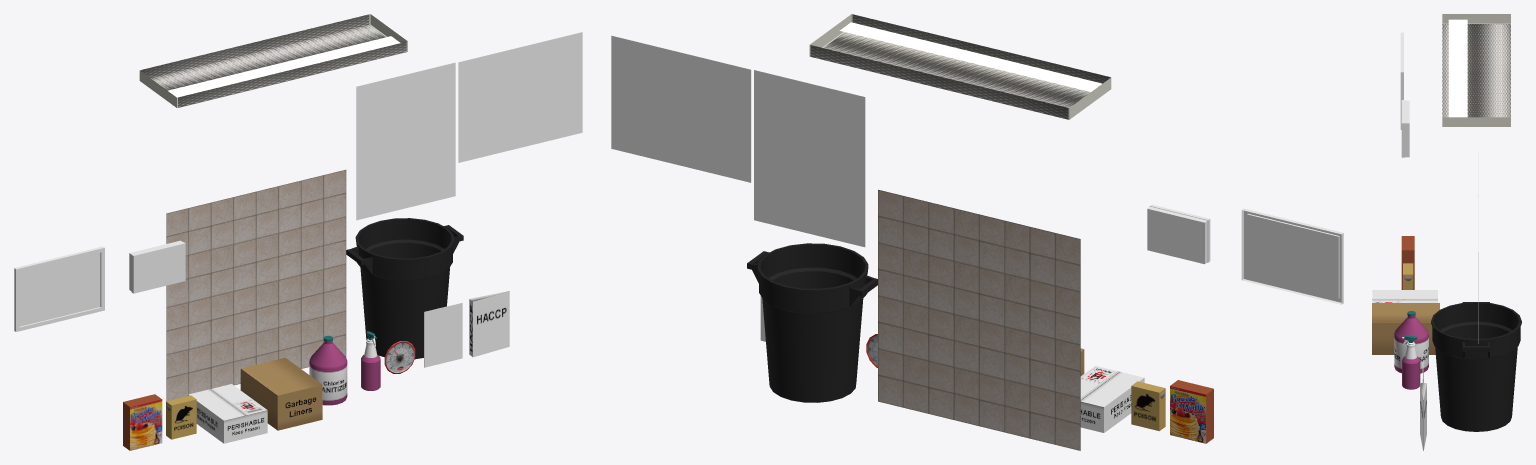
The model's file is boxes_posters.gltf.
3 views of the same model, side by side, from view 1: azimuth 30°, elevation 25°; view 2: azimuth 150°, elevation 25°; view 3: azimuth 270°, elevation 25° (orthographic). The views are drawn at different scales.
Visible parts, largest first — view 1: Wall_tiled, Posters_ab, Posters_cd, Ceiling_light_faulty, Garbage_can, Video_screen, Box_b, Box_c, Firstaid, HACCP_binder, Clipboard, Box_d (+5 smaller); view 2: Wall_tiled, Posters_ab, Posters_cd, Garbage_can, Ceiling_light_faulty, Video_screen, Box_c, Firstaid, Box_d, Video_monitor, Box_a; view 3: Garbage_can, Ceiling_light_faulty, Box_b, Sanitizer, Box_c, Spray_bottle, Firstaid, Box_d, HACCP_binder, Video_monitor, Box_a.
Part boxes in pixels (left/top/right/bottom): Wall_tiled: left=166, top=169, right=346, bottom=401; Posters_ab: left=356, top=62, right=455, bottom=220; Posters_cd: left=458, top=32, right=582, bottom=162; Ceiling_light_faulty: left=139, top=14, right=407, bottom=107; Garbage_can: left=346, top=218, right=463, bottom=359; Video_screen: left=19, top=252, right=100, bottom=326; Box_b: left=240, top=357, right=322, bottom=430; Box_c: left=188, top=384, right=267, bottom=443; Firstaid: left=129, top=240, right=185, bottom=293; HACCP_binder: left=469, top=291, right=509, bottom=357; Clipboard: left=424, top=302, right=462, bottom=367; Box_d: left=123, top=394, right=162, bottom=450; Wall_tiled: left=878, top=189, right=1080, bottom=450; Posters_ab: left=754, top=70, right=865, bottom=247; Posters_cd: left=611, top=35, right=751, bottom=182; Garbage_can: left=747, top=243, right=877, bottom=402; Ceiling_light_faulty: left=809, top=14, right=1111, bottom=119; Video_screen: left=1247, top=214, right=1338, bottom=298; Box_c: left=1080, top=366, right=1144, bottom=432; Firstaid: left=1147, top=204, right=1210, bottom=264; Box_d: left=1170, top=380, right=1213, bottom=443; Video_monitor: left=1241, top=208, right=1343, bottom=304; Box_a: left=1131, top=381, right=1165, bottom=431; Garbage_can: left=1431, top=302, right=1521, bottom=431; Ceiling_light_faulty: left=1442, top=14, right=1510, bottom=126; Box_b: left=1372, top=303, right=1439, bottom=354; Sanitizer: left=1394, top=311, right=1428, bottom=373; Box_c: left=1372, top=290, right=1437, bottom=302; Spray_bottle: left=1401, top=335, right=1420, bottom=389; Firstaid: left=1401, top=100, right=1409, bottom=157; Box_d: left=1401, top=236, right=1414, bottom=289; HACCP_binder: left=1420, top=383, right=1426, bottom=450; Video_monitor: left=1400, top=32, right=1403, bottom=129; Box_a: left=1403, top=263, right=1413, bottom=289.
Bounding box in the file's own units: 6.61 × 3.33 × 1.54.
11 materials, 4 textured.
